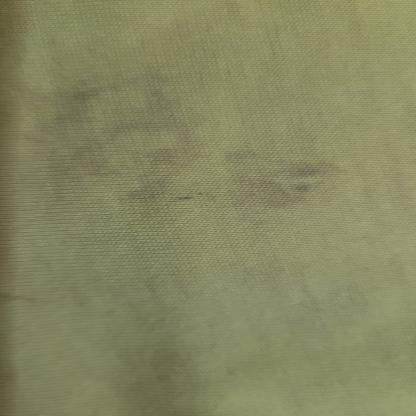spot: (29, 72, 217, 213), (224, 142, 339, 215)
